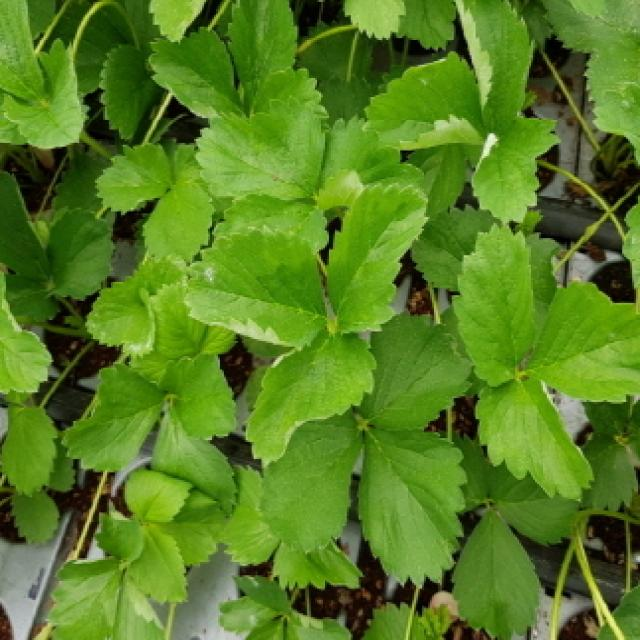Powdery Mildew Leaf: (182, 223, 330, 352), (84, 247, 190, 359), (471, 115, 562, 226), (0, 269, 53, 395), (215, 595, 285, 632)
